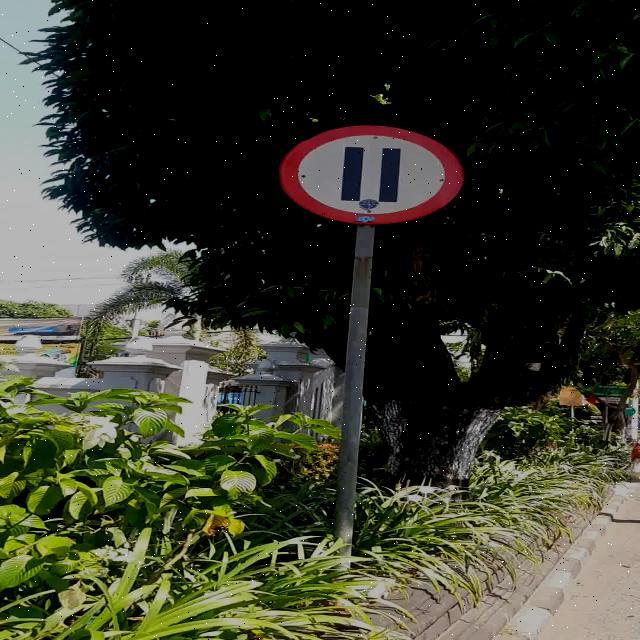Larangan Muatan - 10 ton: (279, 125, 464, 224)
